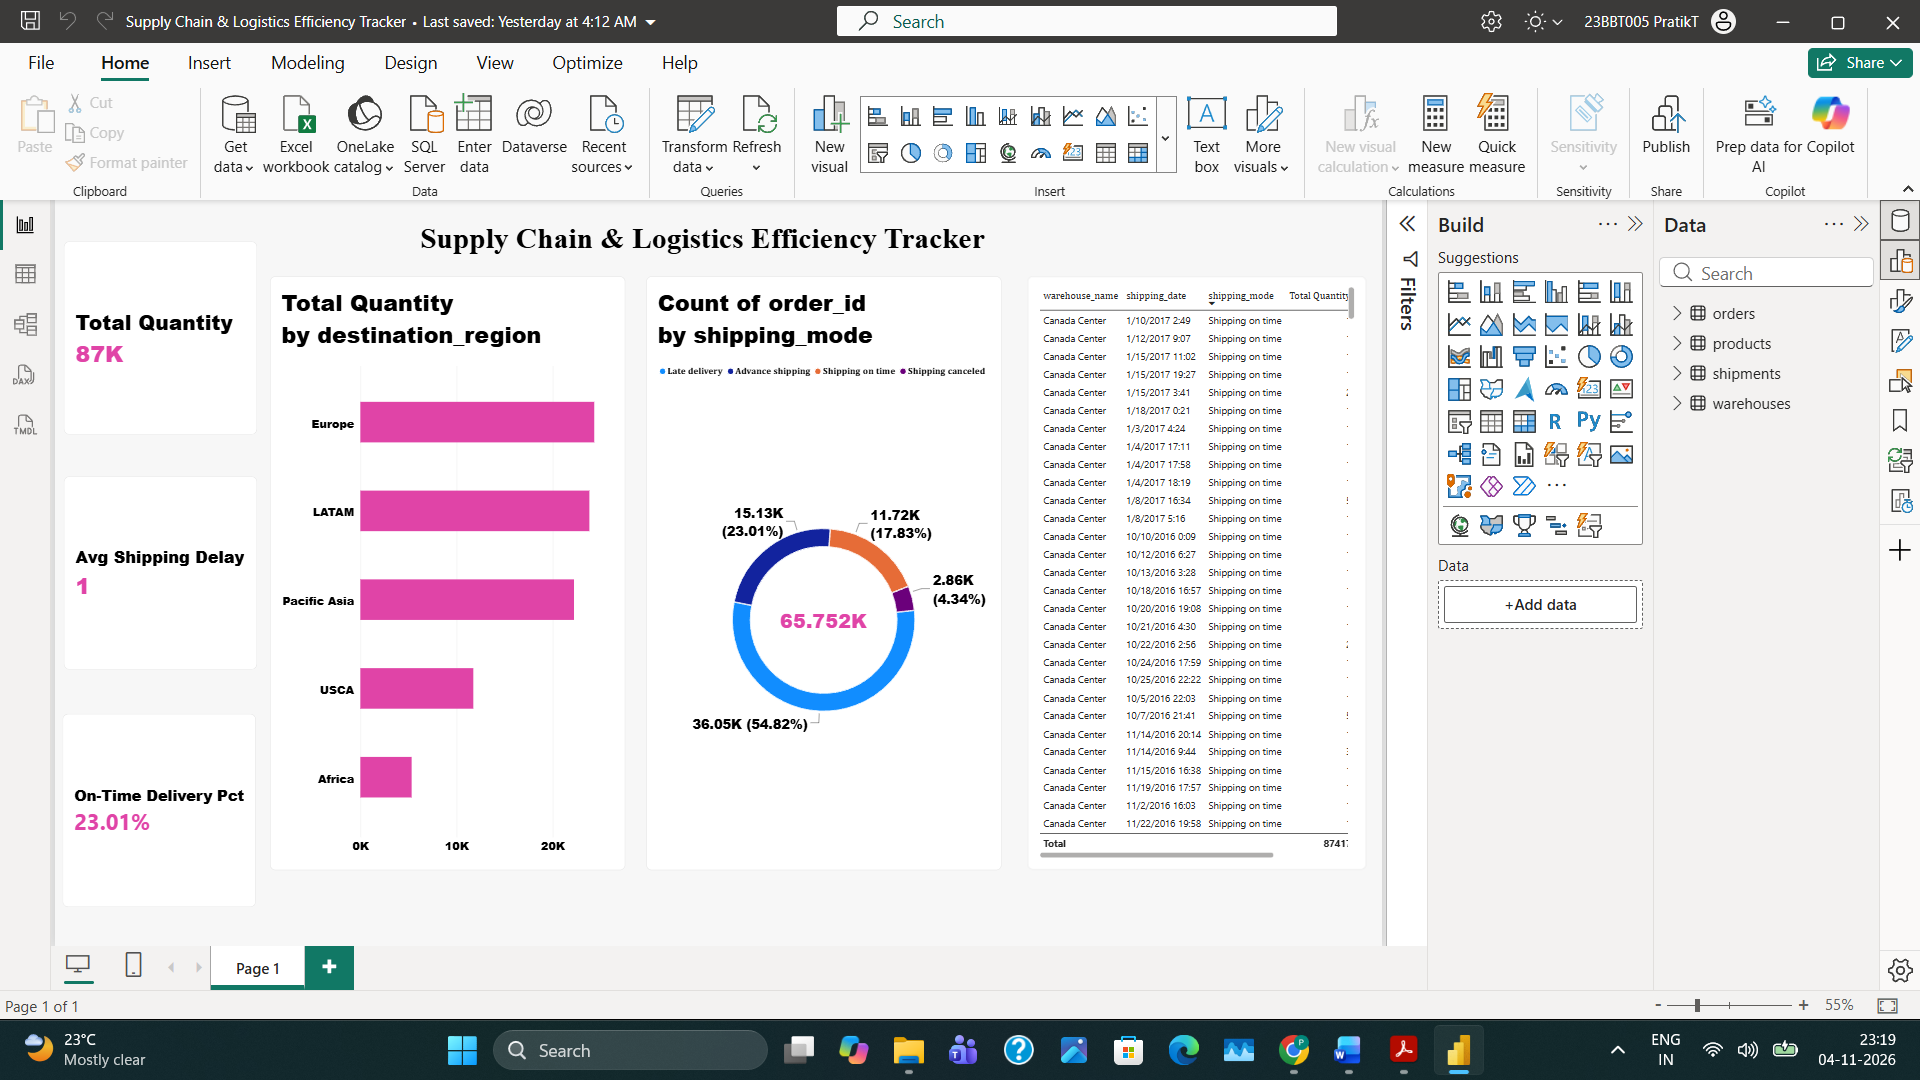

Layout of this report page (visuals, bound fields, positions):
{"tool":"powerbi","page":{"name":"Page 1","canvas":[1920,1080],"ordinal":0},"visuals":[{"type":"cardVisual","fields":{"Data":["orders.Total Quantity"]},"box":[12.7,59.7,280,280],"z":0},{"type":"cardVisual","fields":{"Data":["orders.Avg Shipping Delay"]},"box":[12.7,399.9,280,280],"z":1000},{"type":"cardVisual","fields":{"Data":["orders.On-Time Delivery Pct"]},"box":[10.9,743.8,280,280],"z":2000},{"type":"clusteredBarChart","fields":{"Category":["orders.destination_region"],"Y":["orders.Total Quantity"]},"box":[311.3,110.4,514.1,859.7],"z":3000},{"type":"tableEx","fields":{"Values":["warehouses.warehouse_name","shipments.shipping_mode","shipments.delivery_status","orders.Total Quantity","orders.Avg Shipping Delay"]},"box":[1407.9,110.4,490.4,859.6],"z":4000},{"type":"donutChart","fields":{"Category":["shipments.shipping_mode"],"Y":["CountNonNull(orders.order_id)"]},"box":[856,110.4,514,860],"z":5000},{"type":"textbox","box":[99.5,30.8,1675.7,67],"z":5001}]}

Visuals, with their boxes on the page's 1920x1080 design canvas (x1, y1, x2, y2). These are canvas units, not pixel positions in the 1920x1080 screenshot, which may show the page scaled, cropped or inside an application window:
cardVisual - orders.Total Quantity: detection(13, 60, 293, 340)
cardVisual - orders.Avg Shipping Delay: detection(13, 400, 293, 680)
cardVisual - orders.On-Time Delivery Pct: detection(11, 744, 291, 1024)
clusteredBarChart - orders.destination_region x orders.Total Quantity: detection(311, 110, 825, 970)
tableEx - warehouses.warehouse_name x shipments.shipping_mode: detection(1408, 110, 1898, 970)
donutChart - shipments.shipping_mode x CountNonNull(orders.order_id): detection(856, 110, 1370, 970)
textbox: detection(100, 31, 1775, 98)
